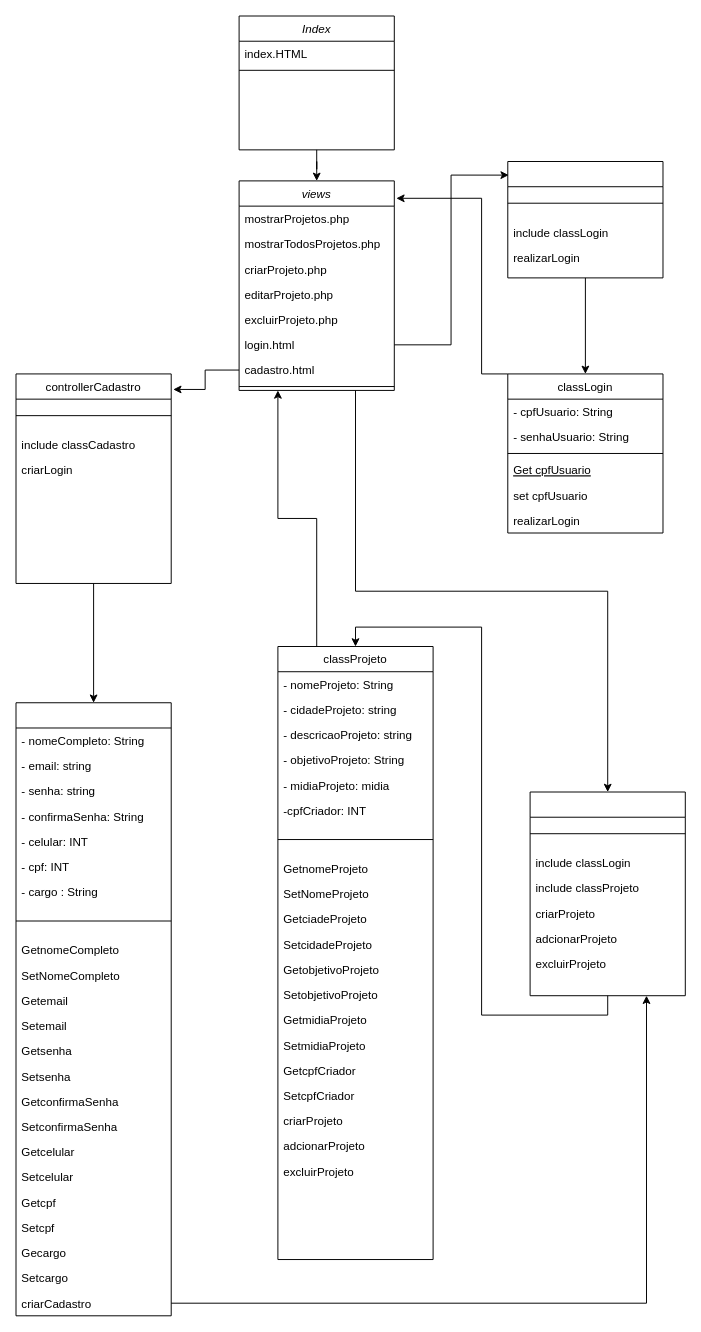
Image size: 701x1332. Some labels were removed from this diagram. Each missing label, with the box of its shape:
classCadastro: (15, 702, 171, 1316)
controllerLogin: (507, 161, 663, 278)
controllerProjeto: (529, 791, 685, 996)
